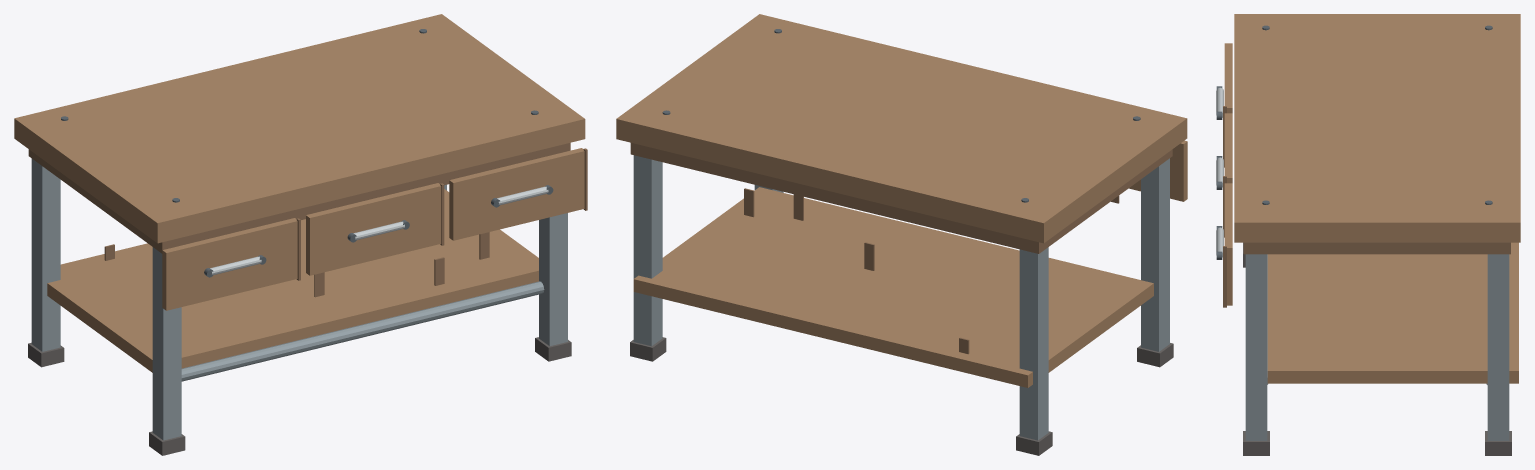
3 renders of one model, left to right at view 1: azimuth 30°, elevation 25°; view 2: azimuth 150°, elevation 25°; view 3: azimuth 270°, elevation 25°, orthographic.
Visible parts, largest first — view 1: TH-007__000__Worksurface worn plywood, TH-007__025__Open lower shelf, TH-007__015__Drawer face, TH-007__010__Drawer face, TH-007__020__Drawer face, TH-007__004__Four steel table legs, TH-007__026__Steel footrest, TH-007__001__Dark beveled lower apron, TH-007__002__Four steel table legs, TH-007__006__Four steel table legs, TH-007__005__Rubber feet, TH-007__003__Rubber feet (+1 smaller); view 2: TH-007__000__Worksurface worn plywood, TH-007__025__Open lower shelf, TH-007__001__Dark beveled lower apron, TH-007__004__Four steel table legs, TH-007__002__Four steel table legs, TH-007__008__Four steel table legs, TH-007__010__Drawer face, TH-007__005__Rubber feet, TH-007__009__Rubber feet, TH-007__003__Rubber feet; view 3: TH-007__000__Worksurface worn plywood, TH-007__025__Open lower shelf, TH-007__006__Four steel table legs, TH-007__008__Four steel table legs, TH-007__001__Dark beveled lower apron, TH-007__020__Drawer face, TH-007__010__Drawer face, TH-007__015__Drawer face, TH-007__007__Rubber feet, TH-007__009__Rubber feet.
Part boxes in pixels (<box>): TH-007__000__Worksurface worn plywood: <box>14,14,585,243</box>; TH-007__025__Open lower shelf: <box>47,189,538,372</box>; TH-007__015__Drawer face: <box>306,183,441,275</box>; TH-007__010__Drawer face: <box>162,218,297,310</box>; TH-007__020__Drawer face: <box>449,148,584,240</box>; TH-007__004__Four steel table legs: <box>31,158,60,351</box>; TH-007__026__Steel footrest: <box>181,281,544,381</box>; TH-007__001__Dark beveled lower apron: <box>28,142,570,253</box>; TH-007__002__Four steel table legs: <box>152,247,181,440</box>; TH-007__006__Four steel table legs: <box>539,213,567,346</box>; TH-007__005__Rubber feet: <box>28,342,64,367</box>; TH-007__003__Rubber feet: <box>149,431,185,455</box>; TH-007__000__Worksurface worn plywood: <box>616,14,1187,243</box>; TH-007__025__Open lower shelf: <box>633,187,1153,387</box>; TH-007__001__Dark beveled lower apron: <box>630,143,1172,253</box>; TH-007__004__Four steel table legs: <box>1019,247,1048,440</box>; TH-007__002__Four steel table legs: <box>1141,158,1169,351</box>; TH-007__008__Four steel table legs: <box>633,155,662,346</box>; TH-007__010__Drawer face: <box>1129,140,1187,201</box>; TH-007__005__Rubber feet: <box>1016,431,1052,455</box>; TH-007__009__Rubber feet: <box>630,337,666,361</box>; TH-007__003__Rubber feet: <box>1137,343,1173,367</box>; TH-007__000__Worksurface worn plywood: <box>1234,14,1520,242</box>; TH-007__025__Open lower shelf: <box>1267,242,1518,383</box>; TH-007__006__Four steel table legs: <box>1245,254,1267,440</box>; TH-007__008__Four steel table legs: <box>1487,254,1509,440</box>; TH-007__001__Dark beveled lower apron: <box>1243,242,1510,254</box>; TH-007__020__Drawer face: <box>1224,183,1232,305</box>; TH-007__010__Drawer face: <box>1224,43,1232,113</box>; TH-007__015__Drawer face: <box>1224,113,1232,183</box>; TH-007__007__Rubber feet: <box>1243,431,1269,455</box>; TH-007__009__Rubber feet: <box>1485,431,1511,455</box>.
Bounding box in the file's own units: 1.55 × 0.8375 × 0.956.
